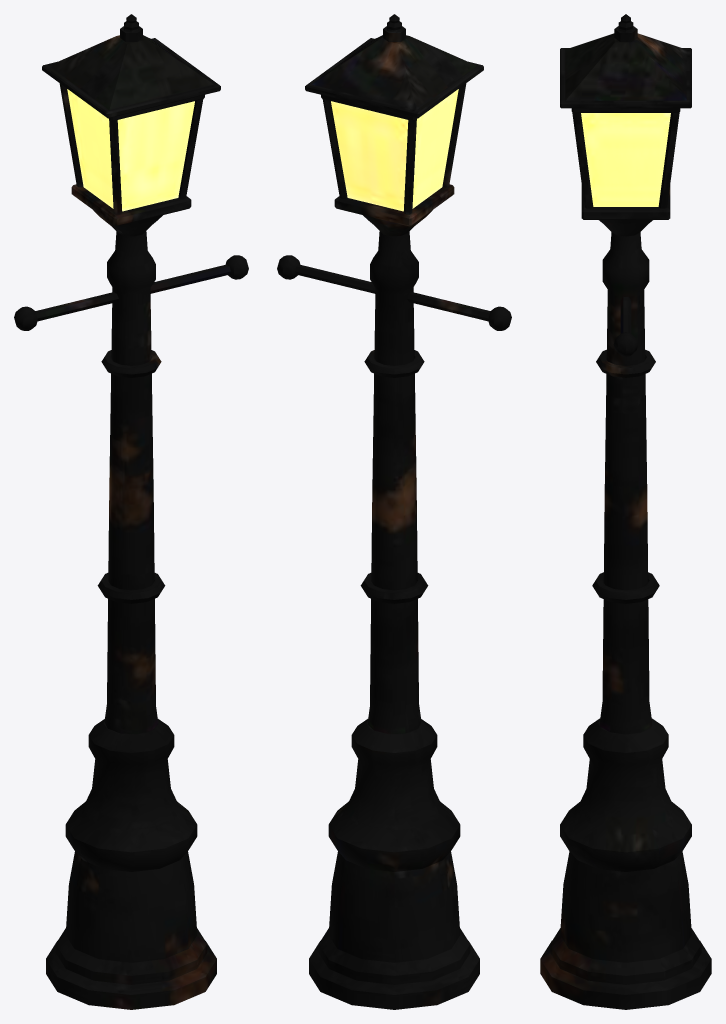
File: gen_street_lamp.mobile-low.glb
3 renders of one model, left to right at view 1: azimuth 30°, elevation 25°; view 2: azimuth 150°, elevation 25°; view 3: azimuth 270°, elevation 25°, orthographic.
Parts seen in each view (by area): view 1: gen_street_lamp; view 2: gen_street_lamp; view 3: gen_street_lamp.
Part boxes in pixels (x1=…): gen_street_lamp: x1=14, y1=14, x2=248, y2=1009; gen_street_lamp: x1=277, y1=14, x2=511, y2=1009; gen_street_lamp: x1=540, y1=14, x2=711, y2=1009.
Size of the model in its own units: 0.815 by 3.21 by 0.52.
1 material, 1 textured.
